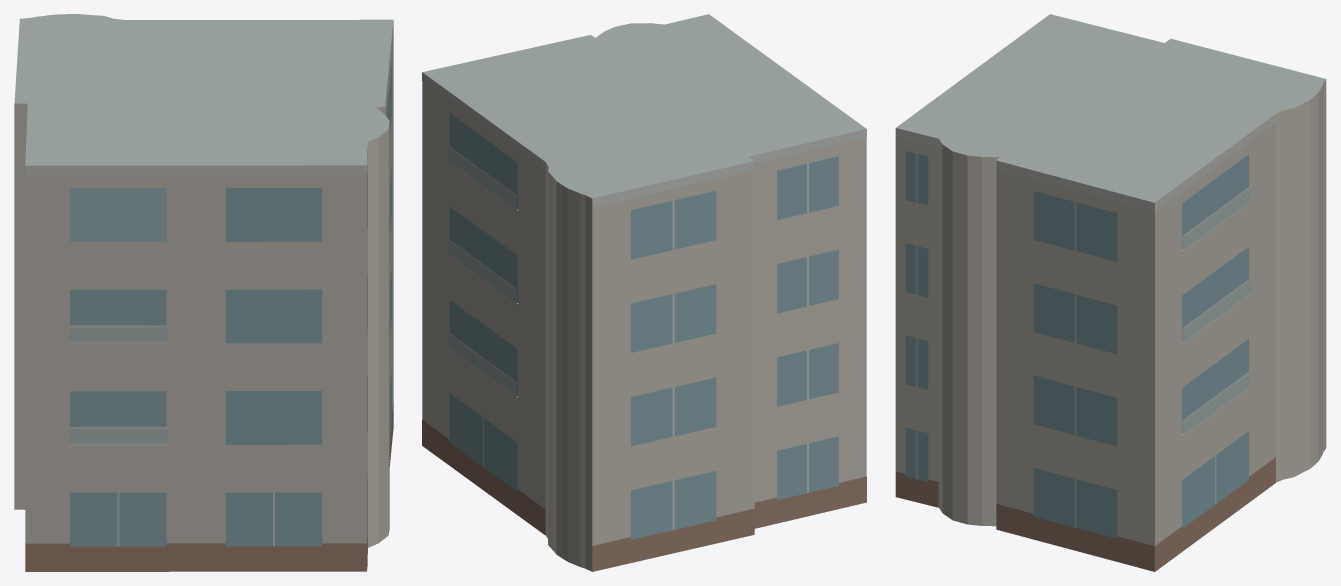
The model's file is survey-upis-32510793.glb.
The picture shows the model from 3 angles, left to right: view 1: azimuth 30°, elevation 25°; view 2: azimuth 150°, elevation 25°; view 3: azimuth 270°, elevation 25°; orthographic projection. The views are drawn at different scales.
Visible parts, largest first — view 1: survey-upis-32510793.tmp; view 2: survey-upis-32510793.tmp; view 3: survey-upis-32510793.tmp.
Part boxes in pixels (x1,y1,x2,y2): survey-upis-32510793.tmp: (14, 14, 393, 571); survey-upis-32510793.tmp: (422, 14, 866, 571); survey-upis-32510793.tmp: (895, 14, 1326, 571).
Size of the model in its own units: 11.31 by 10.3 by 10.91.
